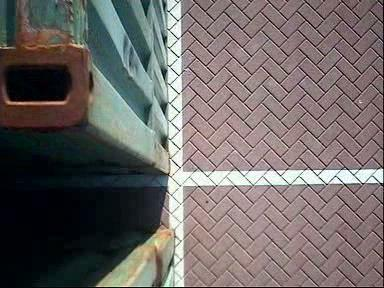groundmarker_2: (1, 196, 127, 288)
